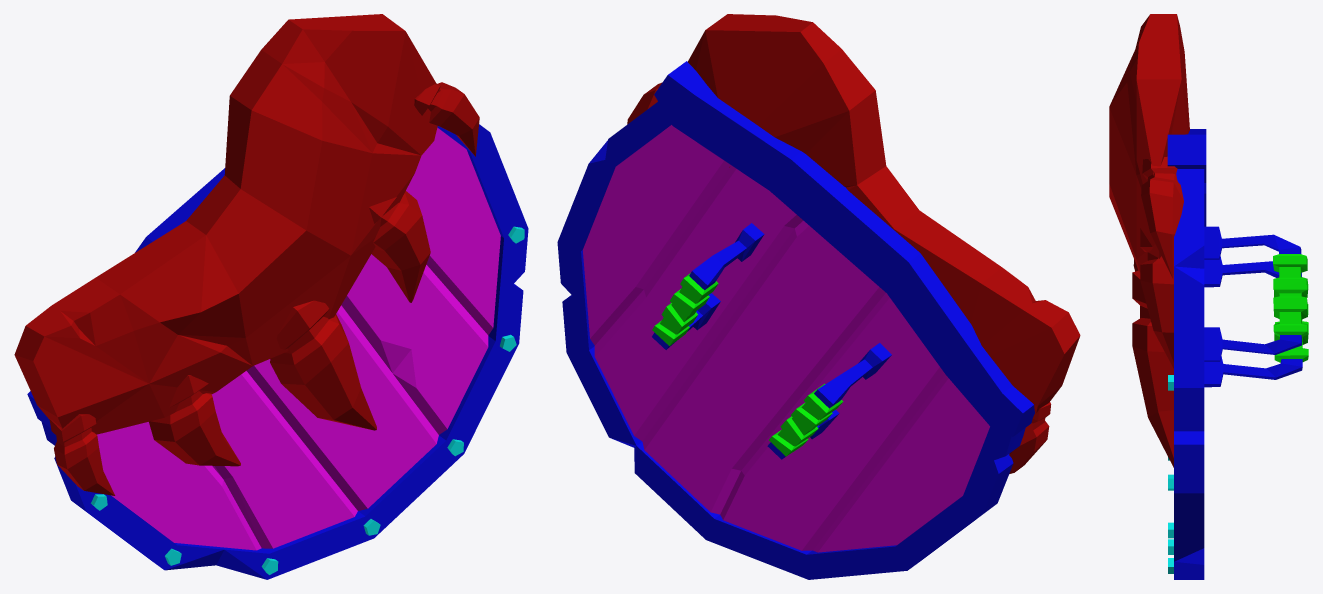
Rendered from Sheild_Common_BoneSheild.fbx.
3 views of the same model, side by side, from view 1: azimuth 30°, elevation 25°; view 2: azimuth 150°, elevation 25°; view 3: azimuth 270°, elevation 25° (orthographic). The views are drawn at different scales.
Visible parts, largest first — view 1: SM_Wep_Shield_Bone_01; view 2: SM_Wep_Shield_Bone_01; view 3: SM_Wep_Shield_Bone_01.
Part boxes in pixels (x1,y1,x2,y2): SM_Wep_Shield_Bone_01: [14, 14, 528, 579]; SM_Wep_Shield_Bone_01: [557, 14, 1080, 579]; SM_Wep_Shield_Bone_01: [1109, 14, 1308, 579].
Bounding box in the file's own units: 0.6748 × 0.6964 × 0.2328.
